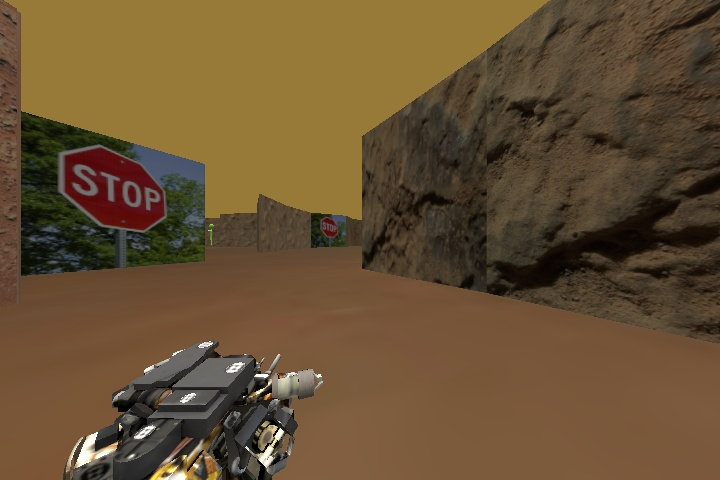alien: (204, 221, 218, 244)
sign: (58, 142, 163, 232), (319, 216, 336, 239)
